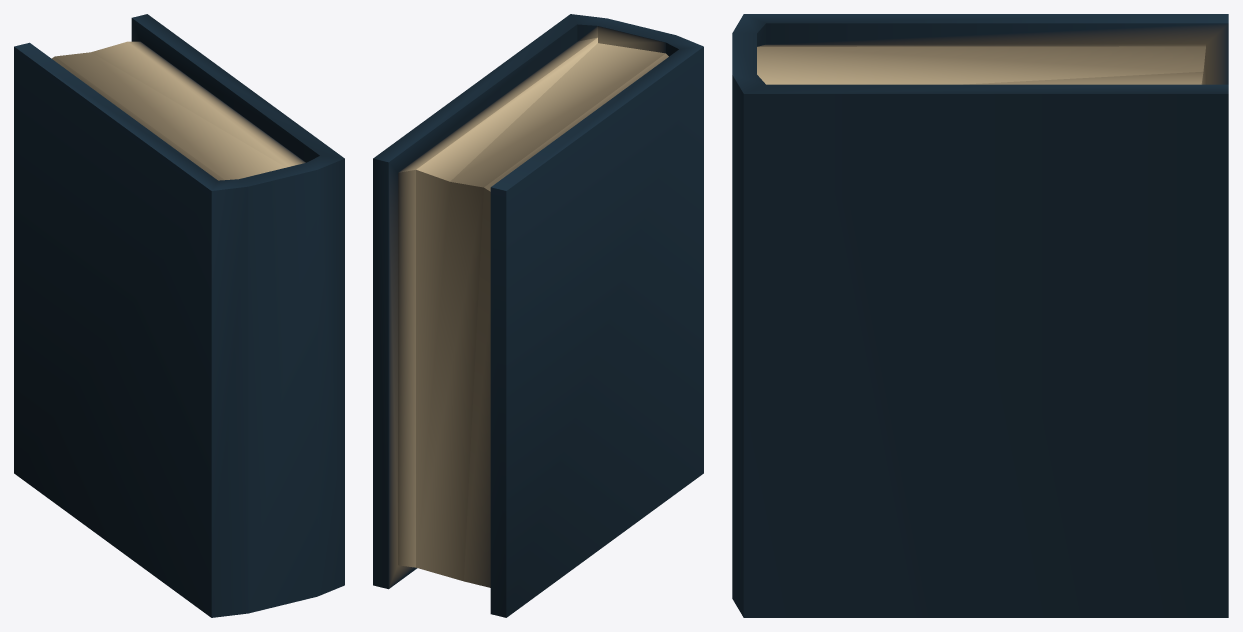
File: Prop_BookA.fbx
3 renders of one model, left to right at view 1: azimuth 30°, elevation 25°; view 2: azimuth 150°, elevation 25°; view 3: azimuth 270°, elevation 25°, orthographic. The views are drawn at different scales.
Parts seen in each view (by area): view 1: Prop_BookA; view 2: Prop_BookA; view 3: Prop_BookA.
Part boxes in pixels (x1,y1,x2,y2): Prop_BookA: [14, 14, 344, 617]; Prop_BookA: [373, 14, 703, 617]; Prop_BookA: [732, 14, 1228, 617].
Size of the model in its own units: 8.48 by 25.92 by 22.25.
